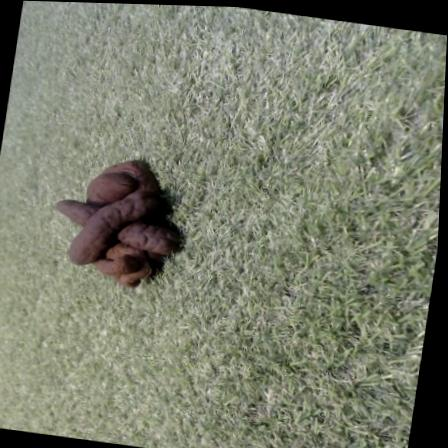dog-poop: (47, 148, 191, 300)
